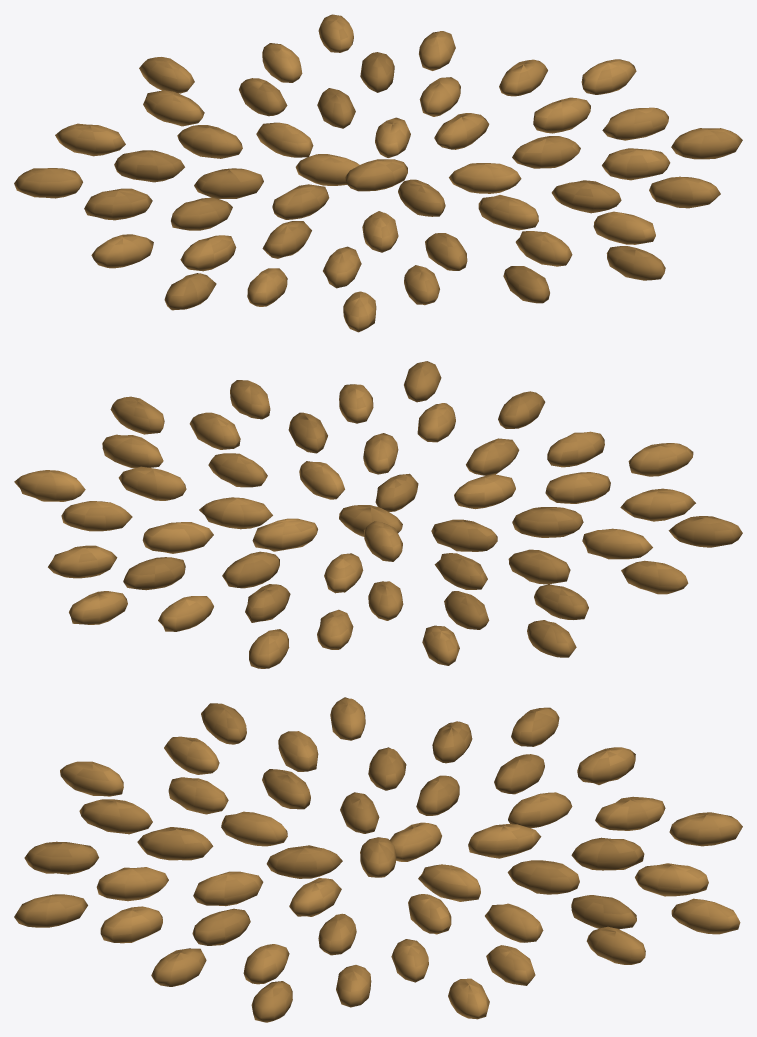
File: Wheat.glb
3 renders of one model, top to bottom at view 1: azimuth 30°, elevation 25°; view 2: azimuth 150°, elevation 25°; view 3: azimuth 270°, elevation 25°, orthographic. The views are drawn at different scales.
Visible parts, largest first — view 1: Wheat; view 2: Wheat; view 3: Wheat.
Boxes of the visible parts, x1,y1,x2,y2 form: Wheat: [14, 14, 742, 332]; Wheat: [14, 361, 742, 668]; Wheat: [14, 697, 742, 1022].
Size of what is drawn, in the model's own units: 0.0643 by 0.00291 by 0.063.
